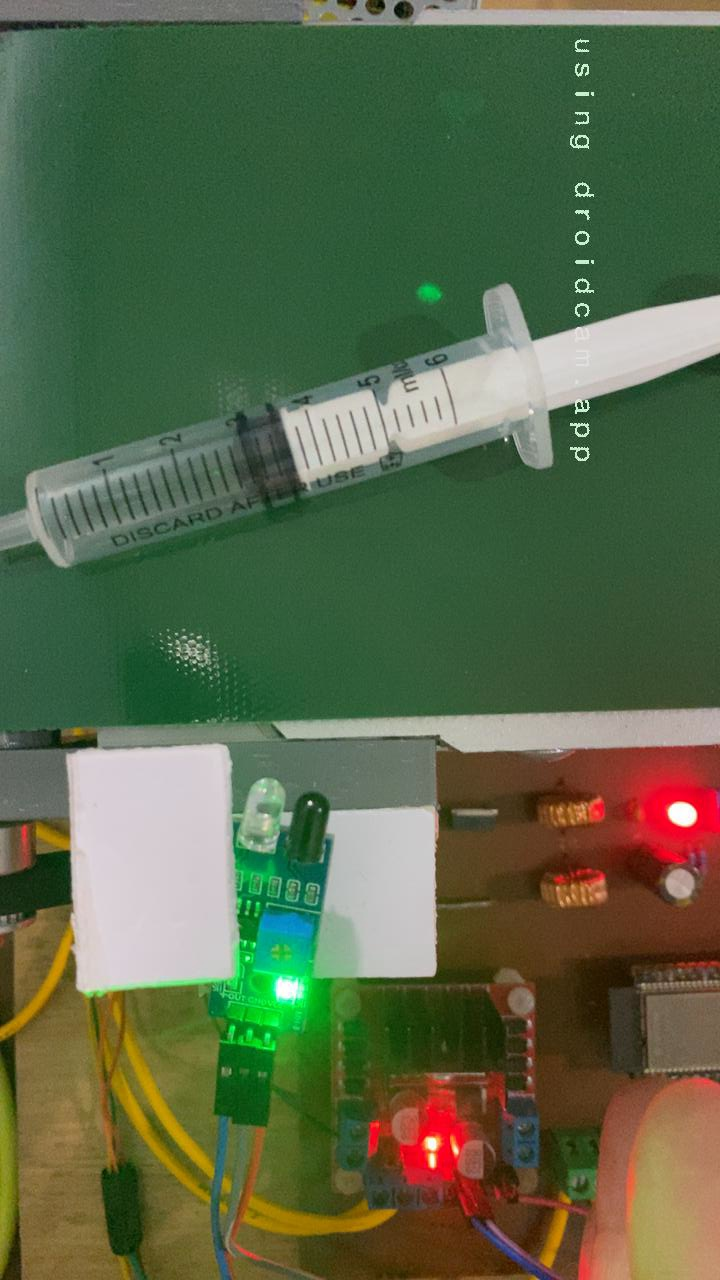syringe: (249, 277, 720, 498)
